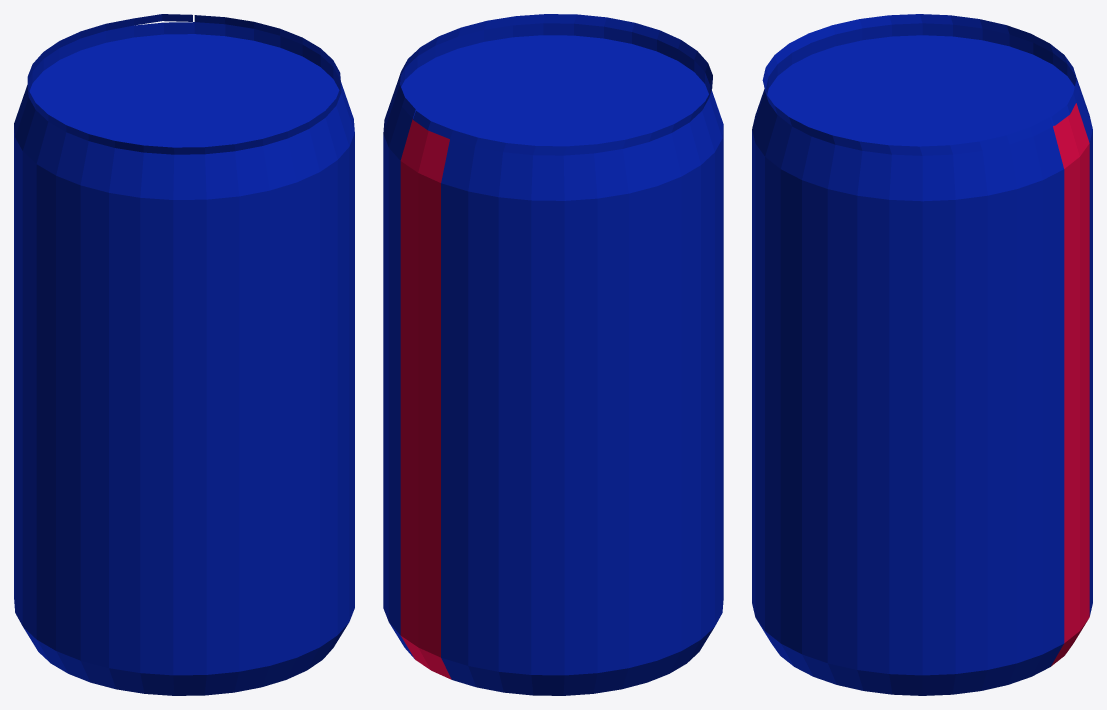
The model's file is soda.fbx.
The picture shows the model from 3 angles, left to right: view 1: azimuth 30°, elevation 25°; view 2: azimuth 150°, elevation 25°; view 3: azimuth 270°, elevation 25°; orthographic projection.
Visible parts, largest first — view 1: Soda; view 2: Soda; view 3: Soda.
Boxes of the visible parts, box(x1,y1,x2,y2) form: Soda: box(14, 14, 354, 695); Soda: box(383, 14, 723, 695); Soda: box(752, 14, 1092, 695).
Bounding box in the file's own units: 40.51 × 72.18 × 40.51.
